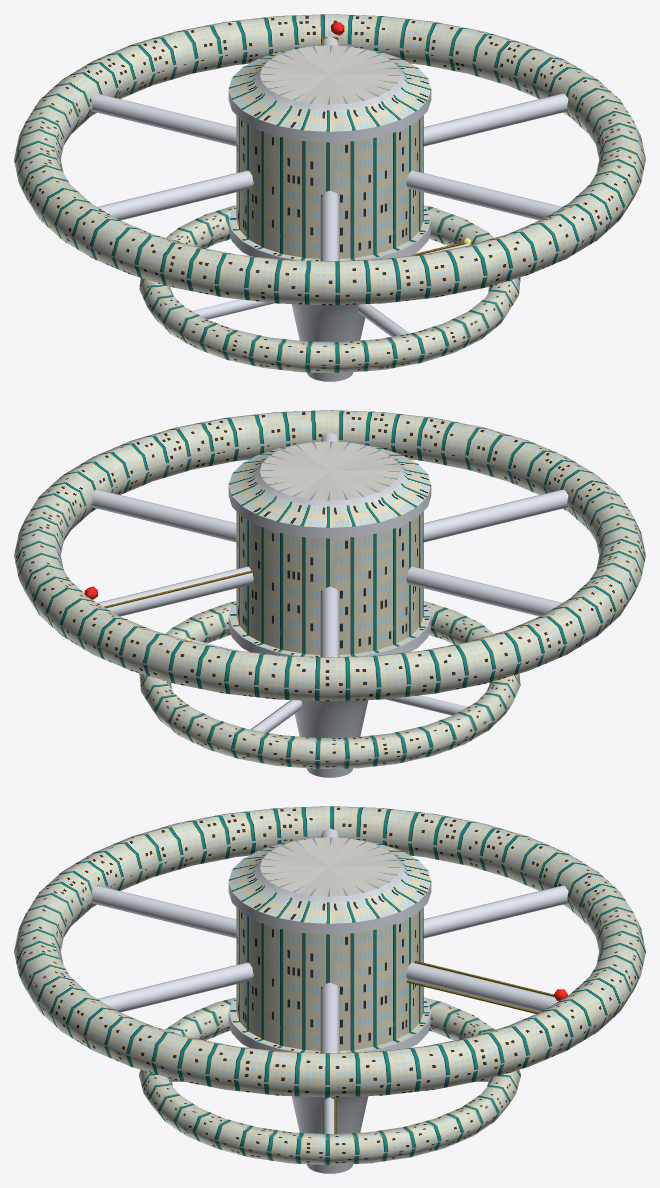
The model's file is research_station_build3.obj.
The picture shows the model from 3 angles, top to bottom: view 1: azimuth 30°, elevation 25°; view 2: azimuth 150°, elevation 25°; view 3: azimuth 270°, elevation 25°; orthographic projection.
Parts seen in each view (by area): view 1: lab_ring, hub, lab_ring2, spoke, spoke2; view 2: lab_ring, hub, lab_ring2, spoke, spoke2; view 3: lab_ring, hub, lab_ring2, spoke, post.
Boxes of the visible parts, x1,y1,x2,y2 form: lab_ring: [14, 14, 645, 305]; hub: [228, 45, 431, 381]; lab_ring2: [139, 205, 520, 372]; spoke: [91, 36, 568, 261]; spoke2: [192, 243, 470, 336]; lab_ring: [14, 410, 645, 701]; hub: [228, 441, 431, 777]; lab_ring2: [139, 601, 520, 768]; spoke: [91, 432, 568, 657]; spoke2: [191, 639, 467, 732]; lab_ring: [14, 806, 645, 1097]; hub: [228, 837, 431, 1173]; lab_ring2: [139, 997, 520, 1165]; spoke: [91, 828, 568, 1053]; post: [323, 960, 554, 1133].
Size of the model in its own units: 162 by 84 by 162.
Materials: 5 (2 with a texture image).
